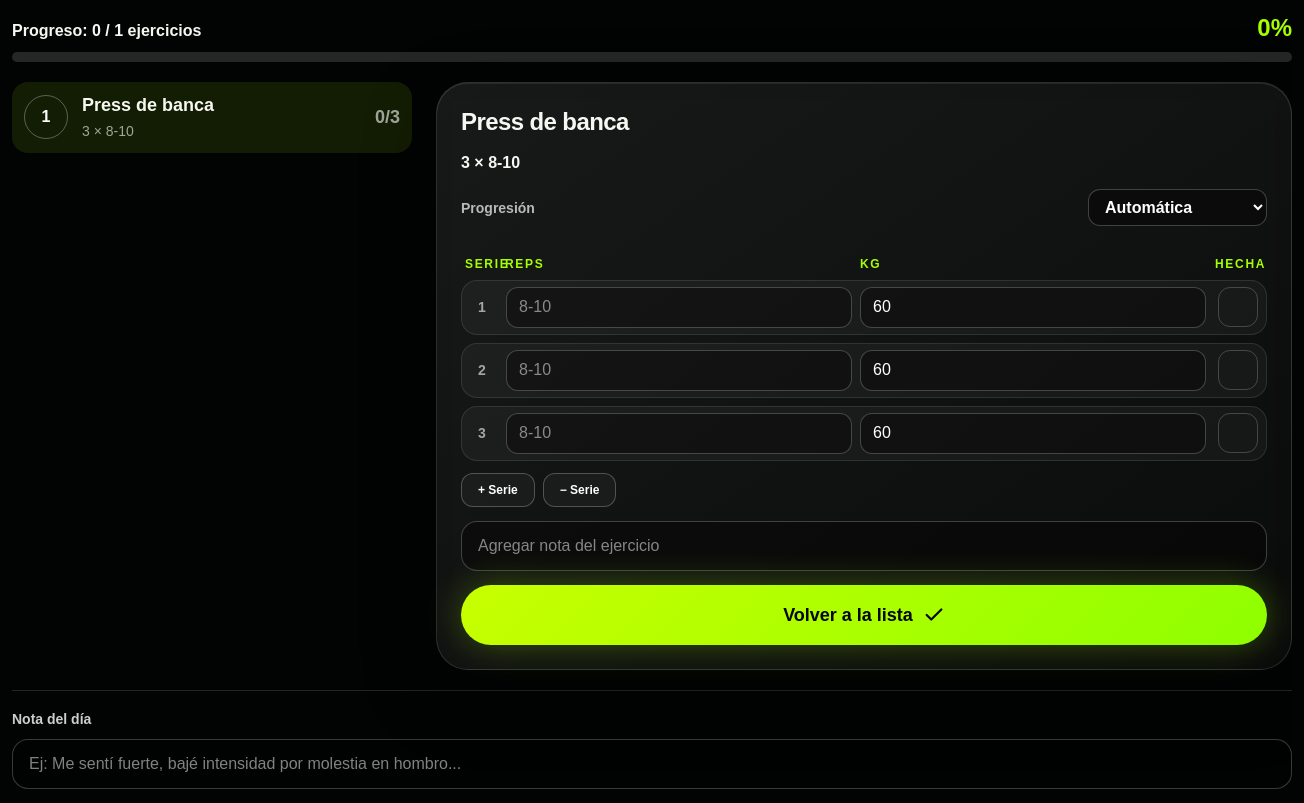
DailyLogForm per-set logging › one tap marks a set done and fills the reps as prescribed; all sets done completes the exercise and updates the list row
The image size is (1304, 803).
Click the 1st checkbox labelled "✓". click: [1238, 307]
box: left=1218, top=287, right=1258, bottom=327
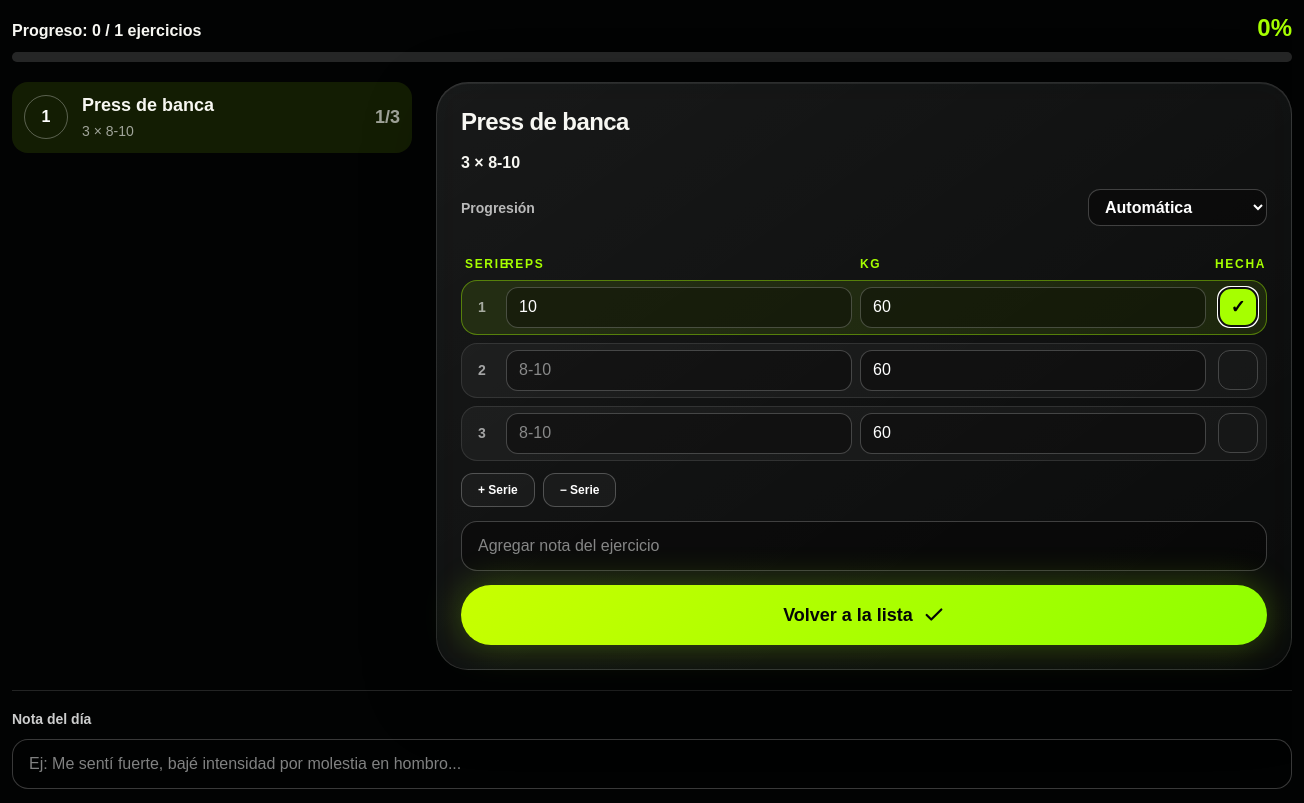
Check: the text "Ejercicio completo" is not shown
Check: the field named "Repeticiones" holds "10", box left=506, top=287, right=852, bottom=328
Check: the button named "Press de banca," shows "1/3", box left=12, top=82, right=412, bottom=152
Click the 2nd checkbox labelled "✓". click: [1238, 370]
box: left=1218, top=350, right=1258, bottom=390
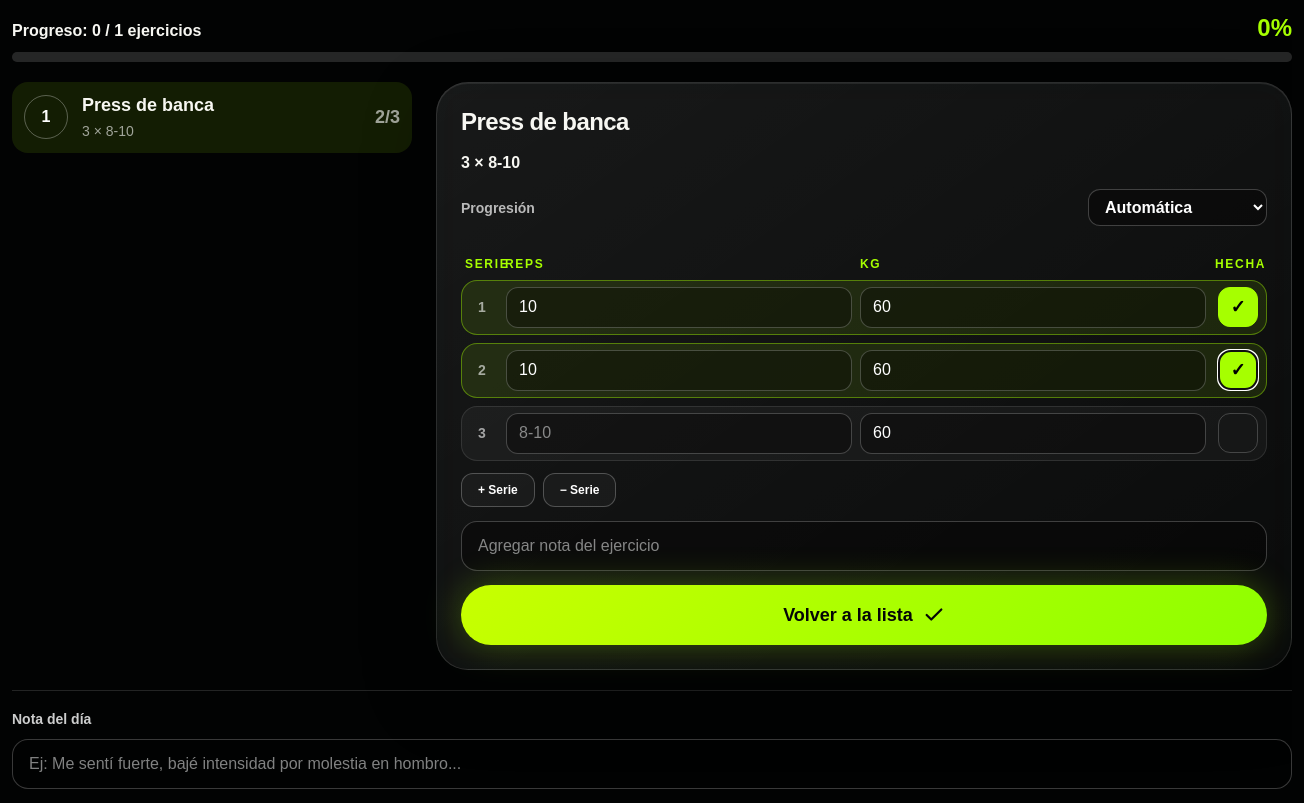
Click the 3rd checkbox labelled "✓". click: [1238, 433]
box: left=1218, top=413, right=1258, bottom=453
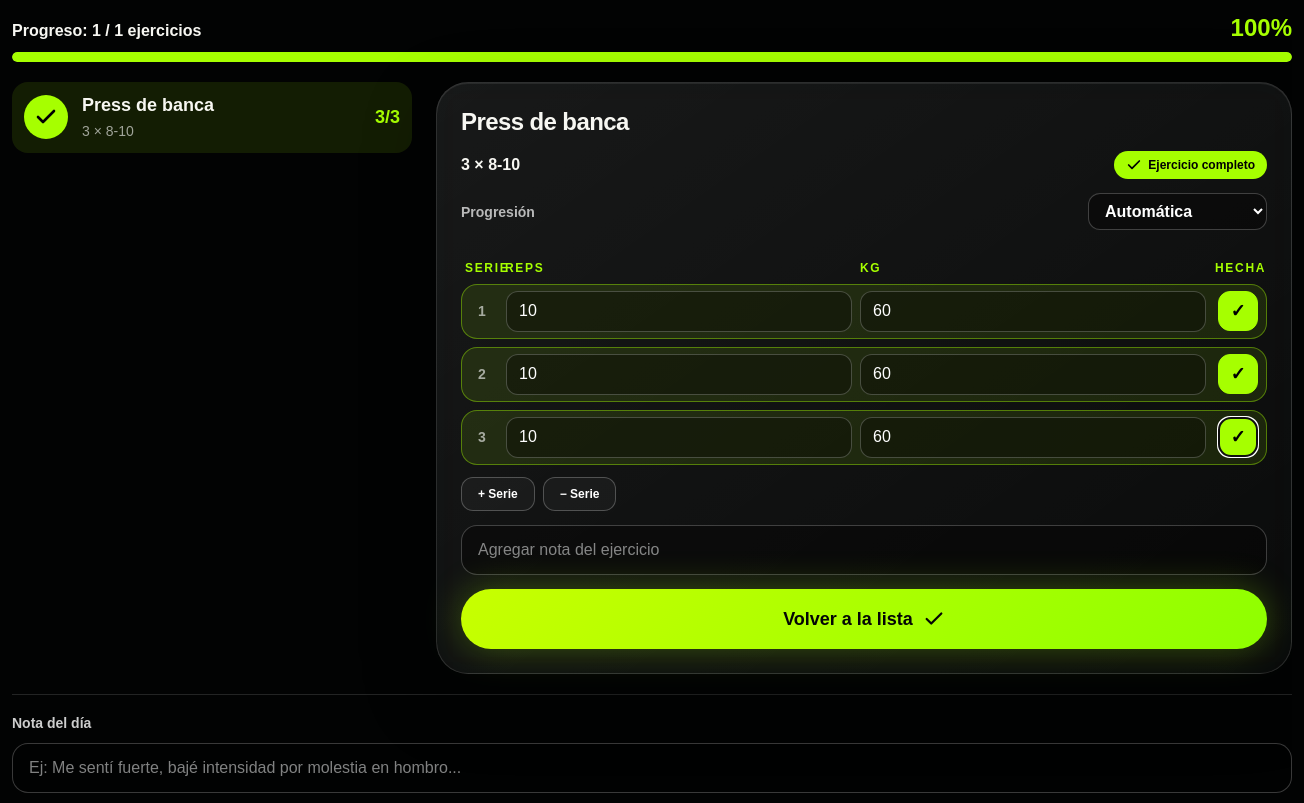
Check: the text "Ejercicio completo" is shown, box left=1148, top=158, right=1255, bottom=172
Check: the button named "Press de banca," shows "3/3", box left=12, top=82, right=412, bottom=152
